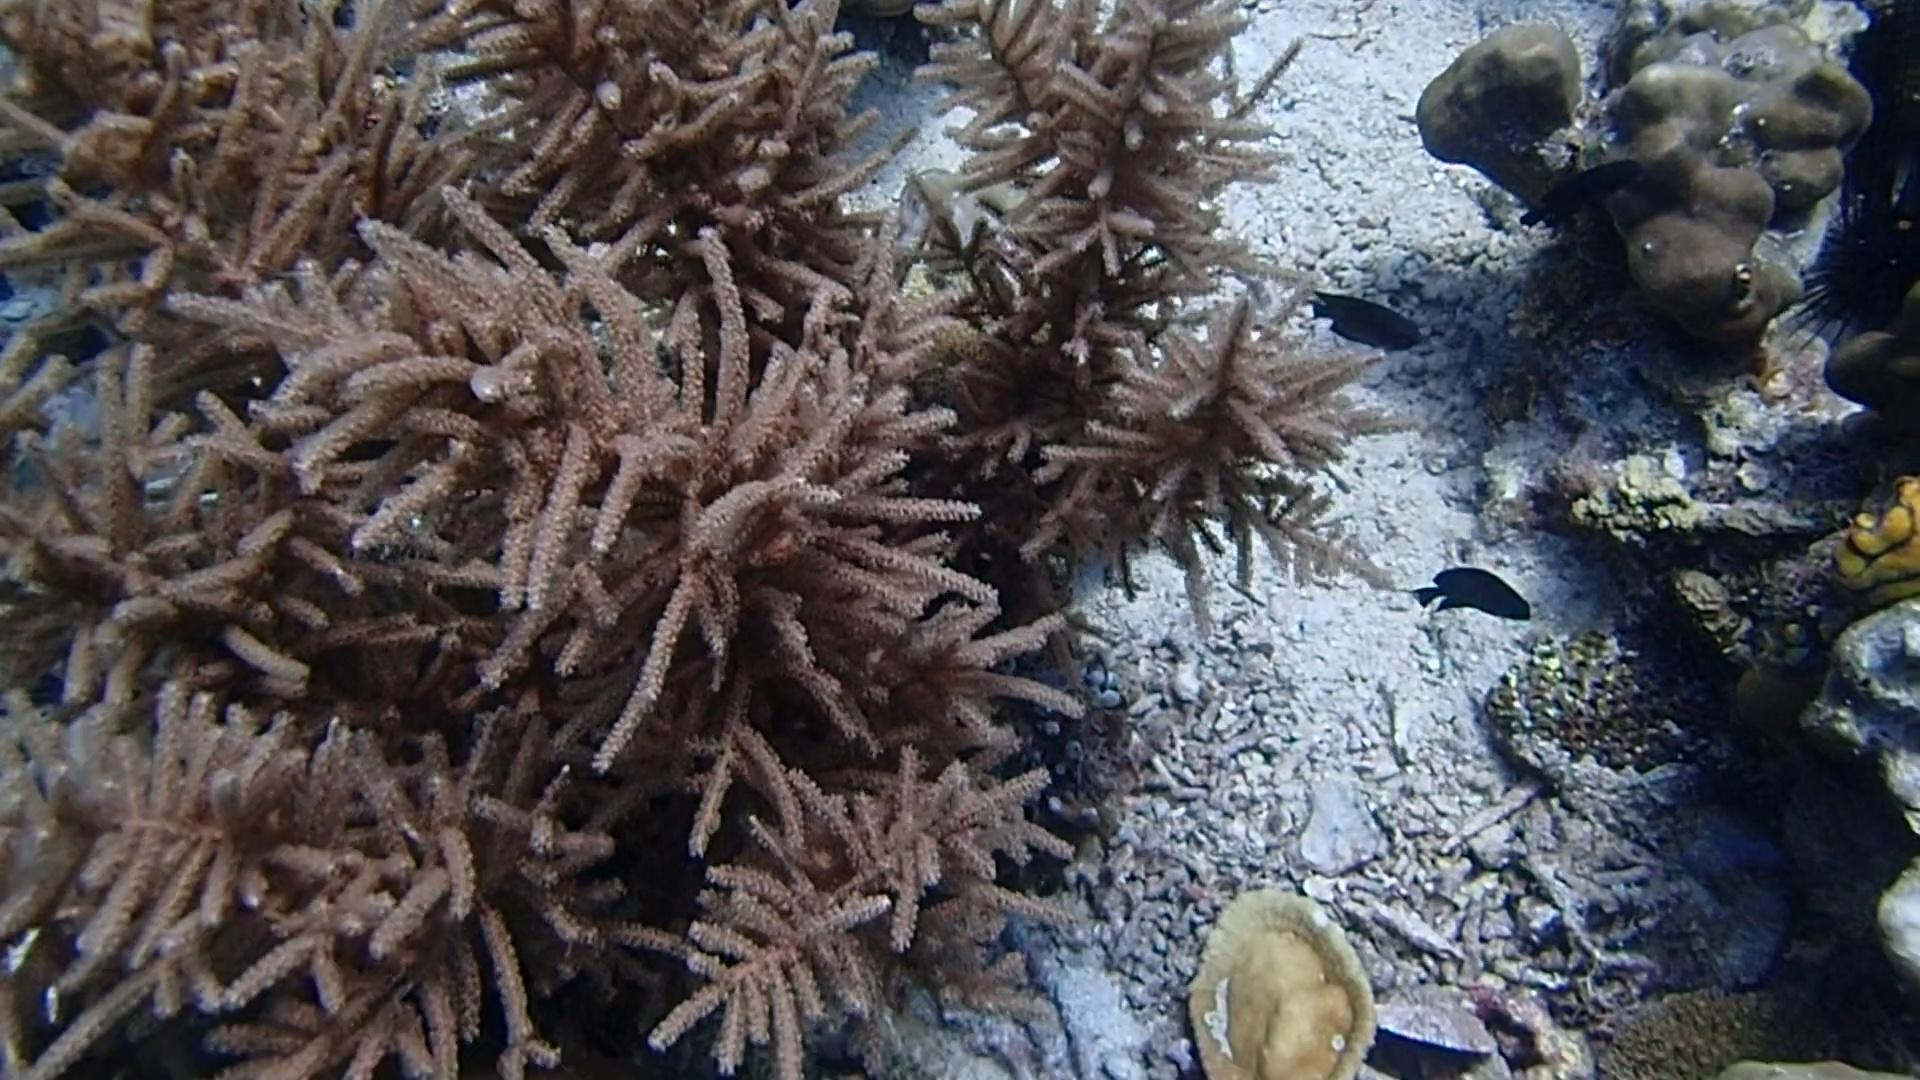Dark Fish: (1509, 152, 1647, 239), (1295, 277, 1436, 360), (1404, 556, 1538, 636)
